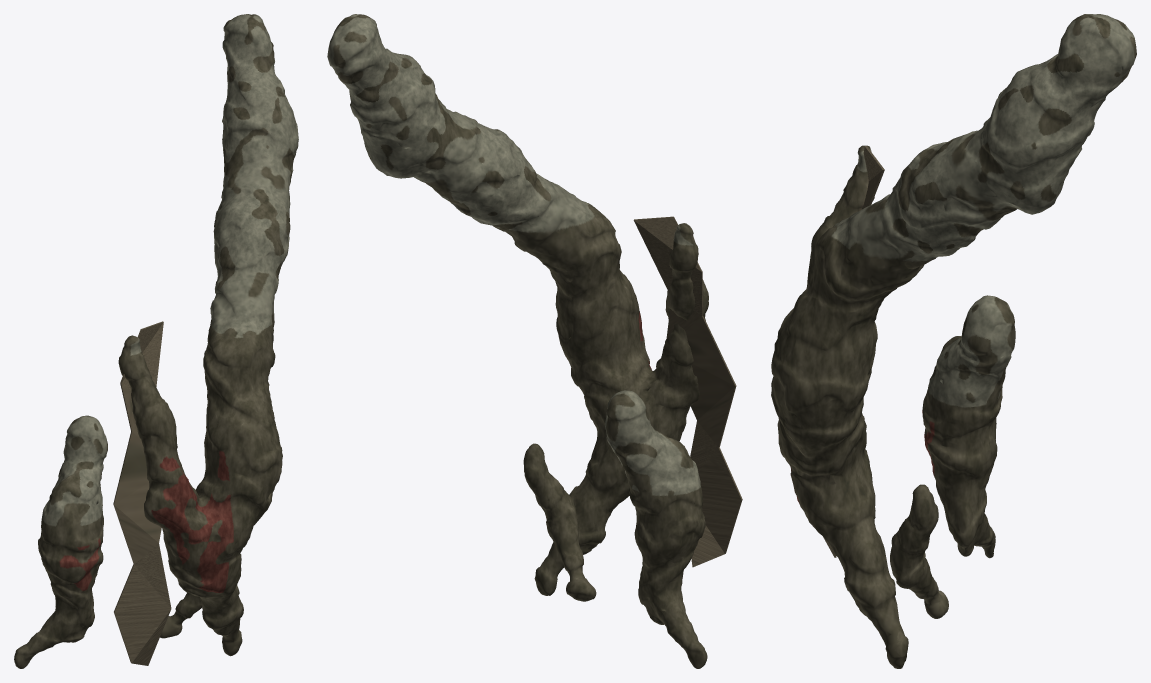
File: infestation-insert.glb
3 renders of one model, left to right at view 1: azimuth 30°, elevation 25°; view 2: azimuth 150°, elevation 25°; view 3: azimuth 270°, elevation 25°, orthographic. The views are drawn at different scales.
Parts seen in each view (by area): view 1: thorax, shoulder-right, helmet; view 2: thorax, shoulder-right, helmet; view 3: thorax, shoulder-right, helmet.
Boxes of the visible parts, bbox=[...] form: thorax: bbox=[113, 14, 298, 665]; shoulder-right: bbox=[14, 415, 107, 668]; helmet: bbox=[160, 592, 201, 638]; thorax: bbox=[327, 14, 742, 595]; shoulder-right: bbox=[605, 390, 707, 668]; helmet: bbox=[523, 443, 596, 601]; thorax: bbox=[771, 14, 1136, 668]; shoulder-right: bbox=[922, 295, 1015, 558]; helmet: bbox=[890, 484, 948, 618].
Size of the model in its own units: 0.3371 by 0.6014 by 0.2806.
1 material, 1 textured.
